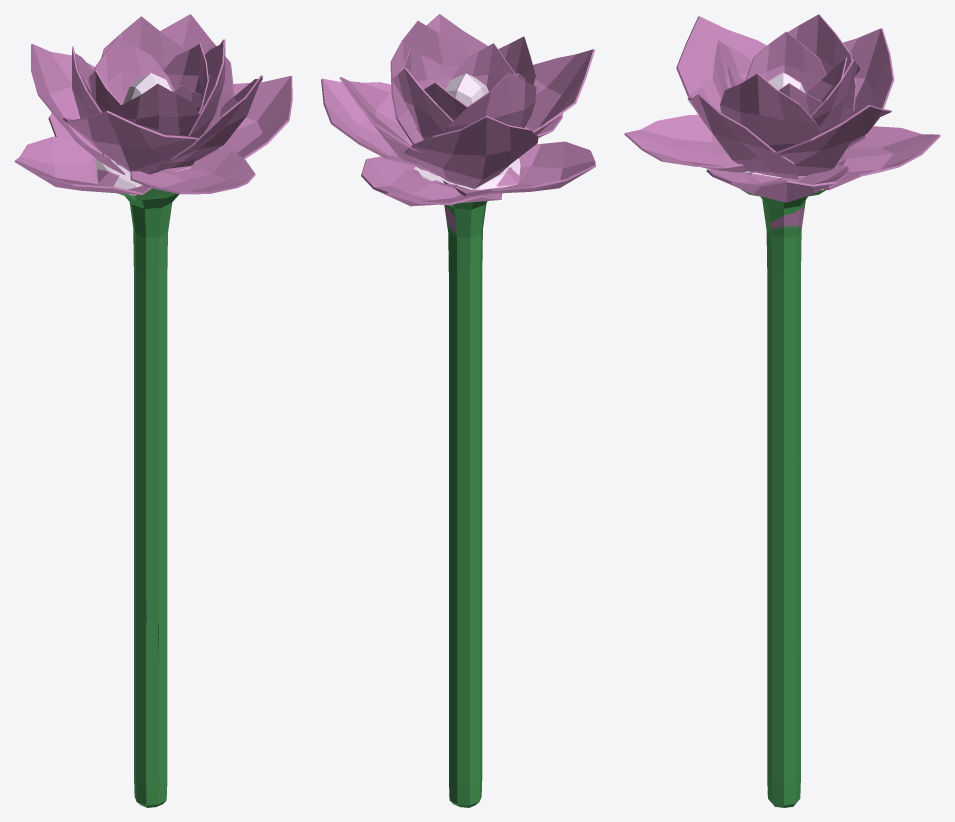
The model's file is LOTO.fbx.
3 renders of one model, left to right at view 1: azimuth 30°, elevation 25°; view 2: azimuth 150°, elevation 25°; view 3: azimuth 270°, elevation 25°, orthographic.
Parts seen in each view (by area): view 1: Cube.005; view 2: Cube.005; view 3: Cube.005.
Part boxes in pixels (bbox=[...]): Cube.005: bbox=[14, 14, 292, 807]; Cube.005: bbox=[321, 14, 595, 807]; Cube.005: bbox=[624, 14, 940, 807].
Size of the model in its own units: 127 by 333 by 126.
1 material, 1 textured.
